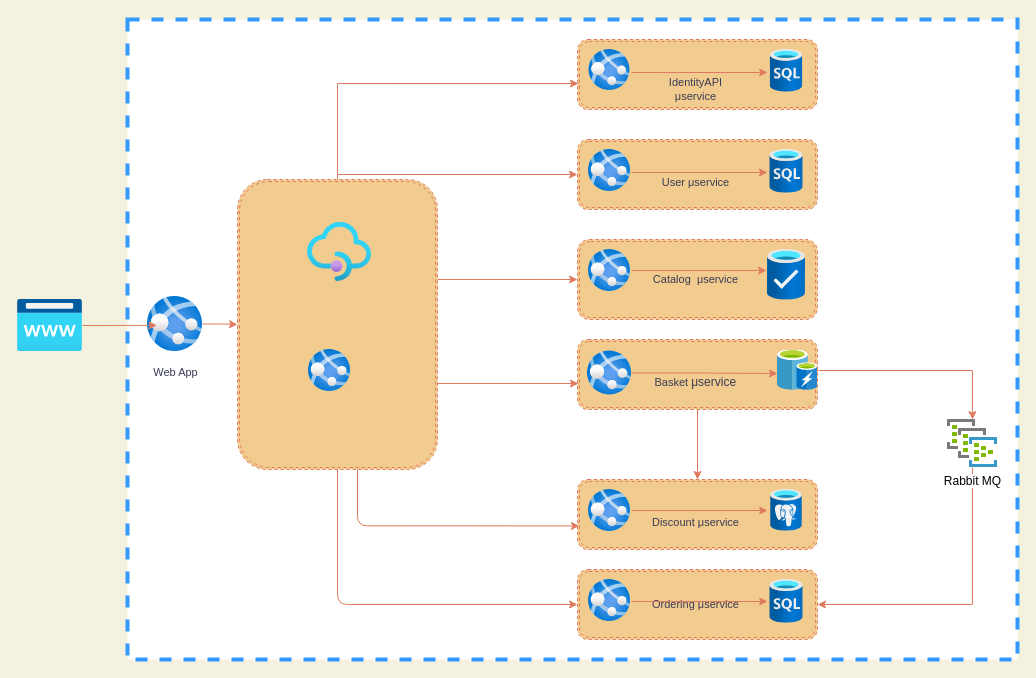
Some shapes in this 1036 by 678 pixel diagram are drawn without their labels. Each missing label, with the centre of its shape:
Aggregator: the point at 329,370
API Gateway(Ocelot): the point at 339,251
MongoDB: the point at 786,274
Redis: the point at 797,370
